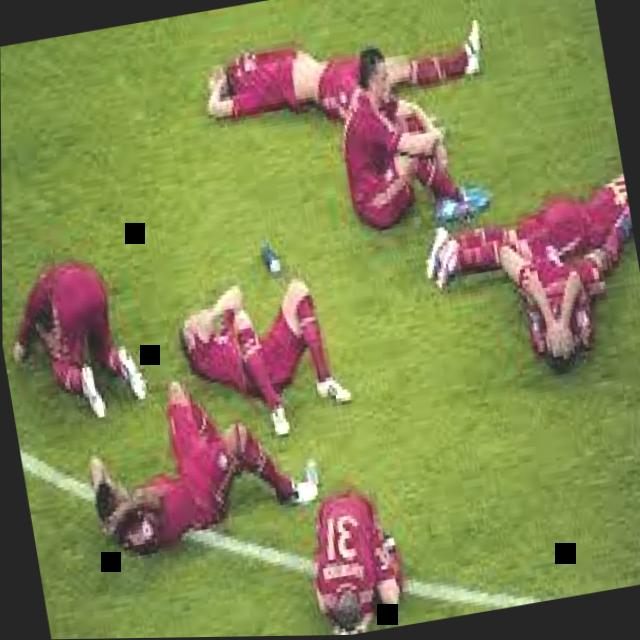Fall-Detected: (409, 131, 640, 316)
